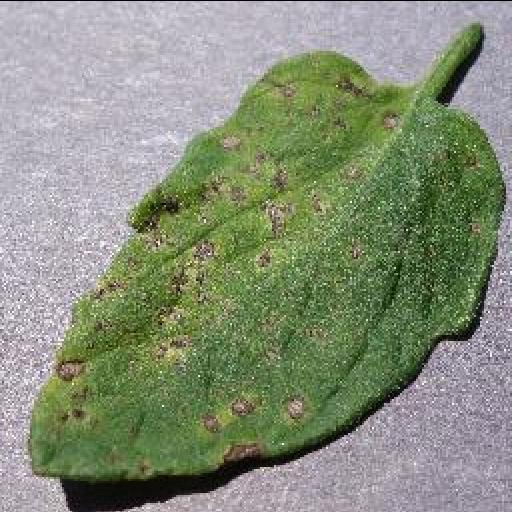disease_tomato: (25, 46, 507, 476)
